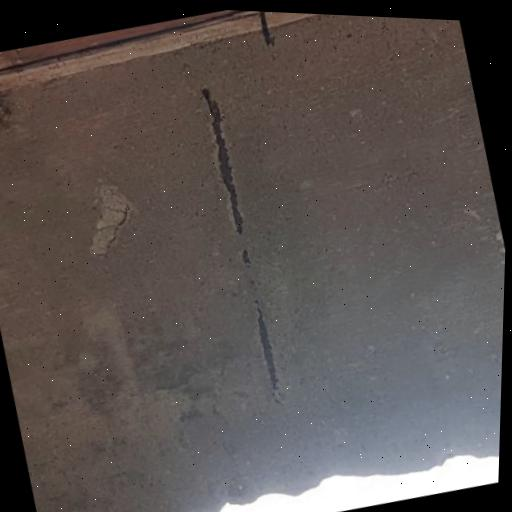exposed_rebar: (202, 88, 242, 234), (257, 300, 278, 391), (260, 12, 275, 46), (242, 250, 251, 267)
